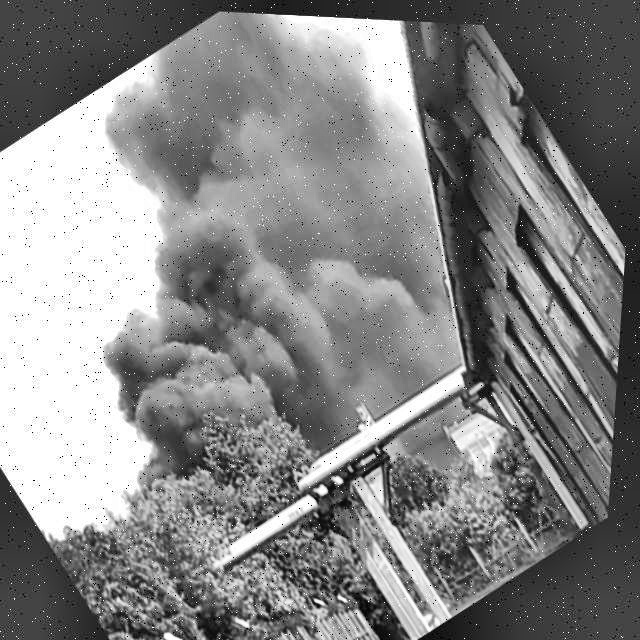Smoke: (0, 0, 541, 537)
